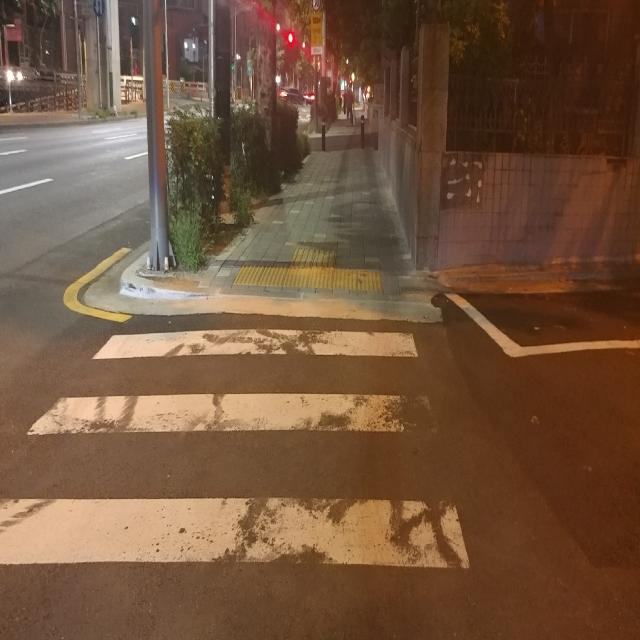횡단보도: (0, 329, 471, 570)
